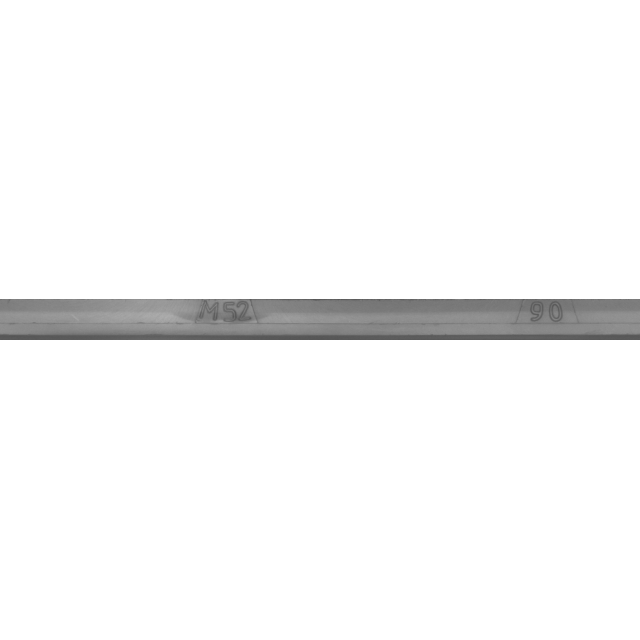mohao: (123, 270, 323, 370)
xuehao: (452, 270, 640, 370)
